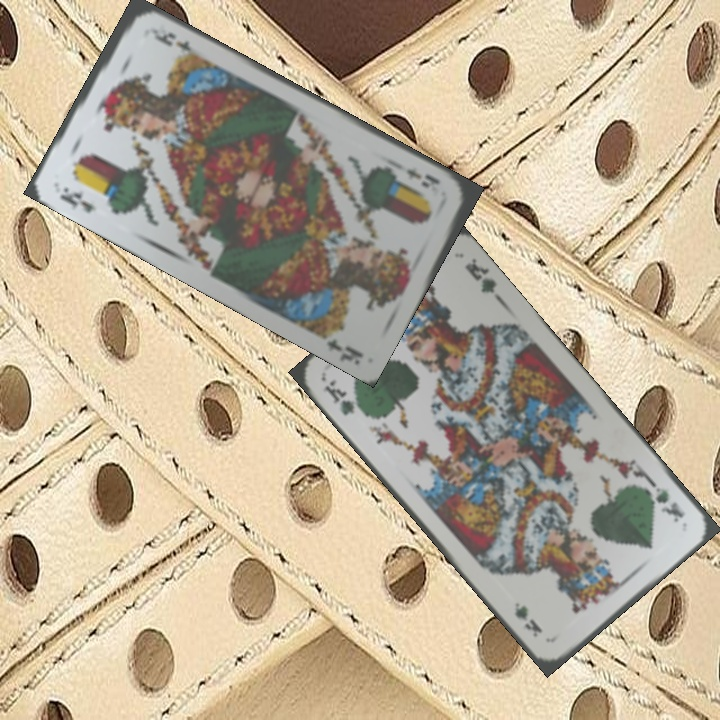EK: (56, 183, 98, 216), (402, 163, 442, 191)
GK: (319, 375, 367, 419), (646, 476, 688, 525)
